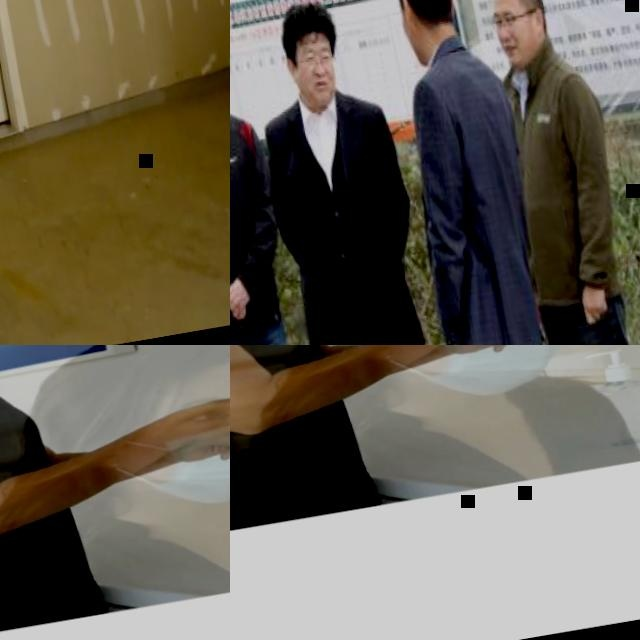Mask: (407, 345, 572, 410), (134, 416, 230, 518)
NO-Hardhat: (44, 345, 230, 415), (275, 0, 333, 45), (485, 0, 544, 12)
NO-Mask: (297, 70, 337, 108), (399, 21, 428, 66), (502, 33, 537, 65)
NO-Safety Vest: (303, 369, 630, 514), (411, 46, 549, 345), (267, 94, 414, 345), (29, 477, 230, 622), (498, 59, 611, 313), (0, 345, 96, 640), (230, 345, 369, 538), (230, 110, 277, 322)
Person: (235, 0, 460, 345), (370, 0, 579, 345), (230, 345, 636, 521), (0, 345, 230, 629), (470, 0, 640, 345), (230, 13, 329, 345), (0, 345, 106, 640), (230, 345, 379, 545)
